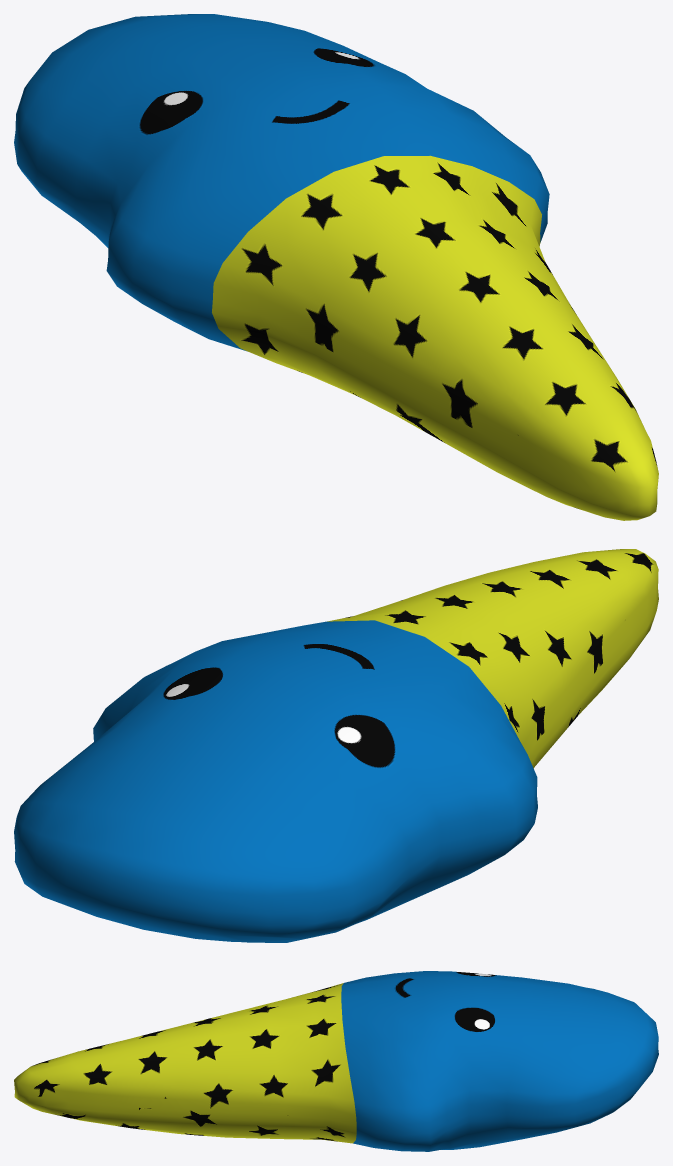
The model's file is Ice cream cushion 3.fbx.
The picture shows the model from 3 angles, top to bottom: view 1: azimuth 30°, elevation 25°; view 2: azimuth 150°, elevation 25°; view 3: azimuth 270°, elevation 25°; orthographic projection. The views are drawn at different scales.
Parts seen in each view (by area): view 1: ice cream cushion 3; view 2: ice cream cushion 3; view 3: ice cream cushion 3.
Boxes of the visible parts, bbox=[...] form: ice cream cushion 3: bbox=[14, 14, 658, 520]; ice cream cushion 3: bbox=[14, 549, 658, 942]; ice cream cushion 3: bbox=[14, 971, 658, 1151].
Bounding box in the file's own units: 16.88 × 8.56 × 37.08.
1 material, 1 textured.
